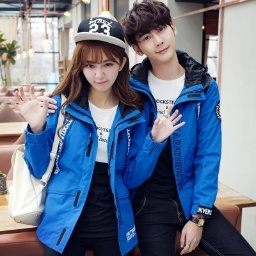face: (68, 36, 131, 98), (124, 1, 181, 66)
